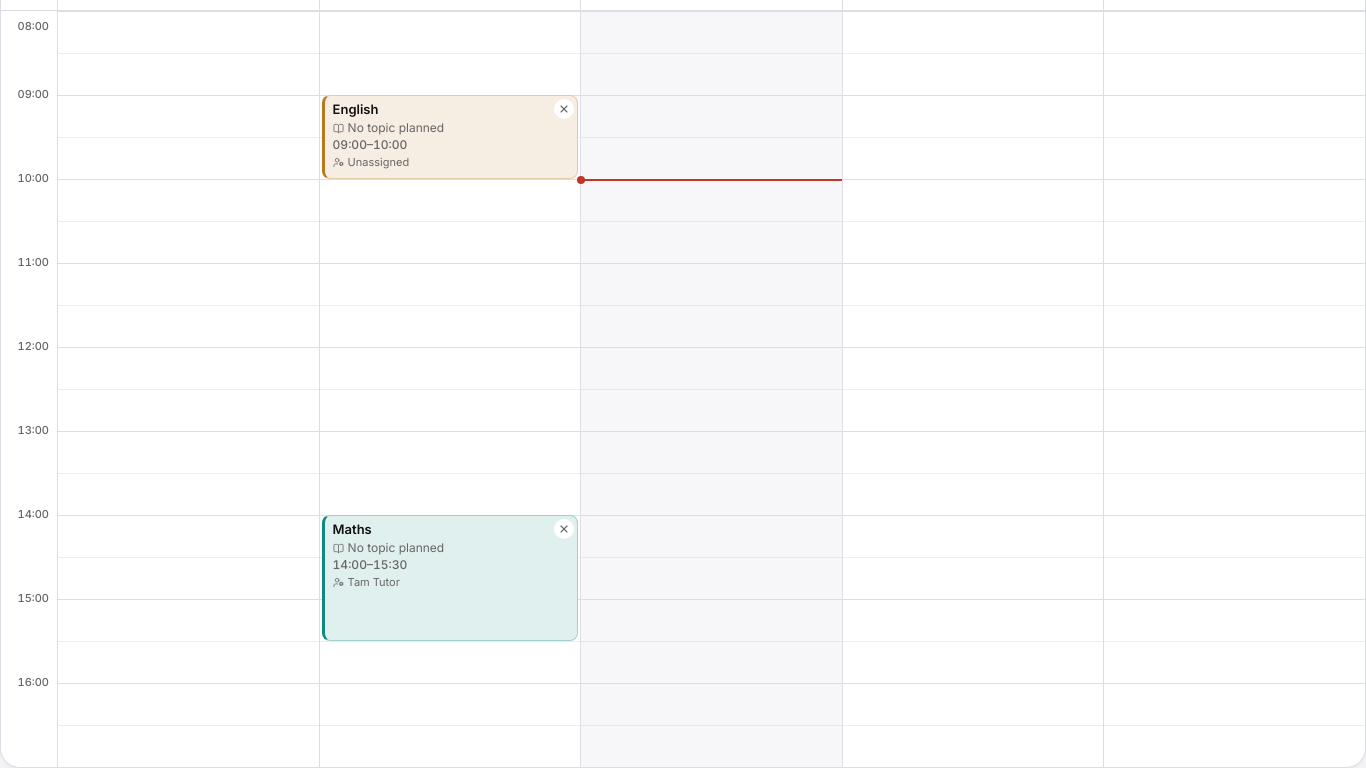
Test: TimetablePage changing and removing sessions › clicking a block opens it pre-filled, and saving sends the new slot
(page scrolled)
Click the button with aria-label "Edit Maths". click: {"x": 451, "y": 578}
box: x1=325 y1=516 x2=577 y2=640
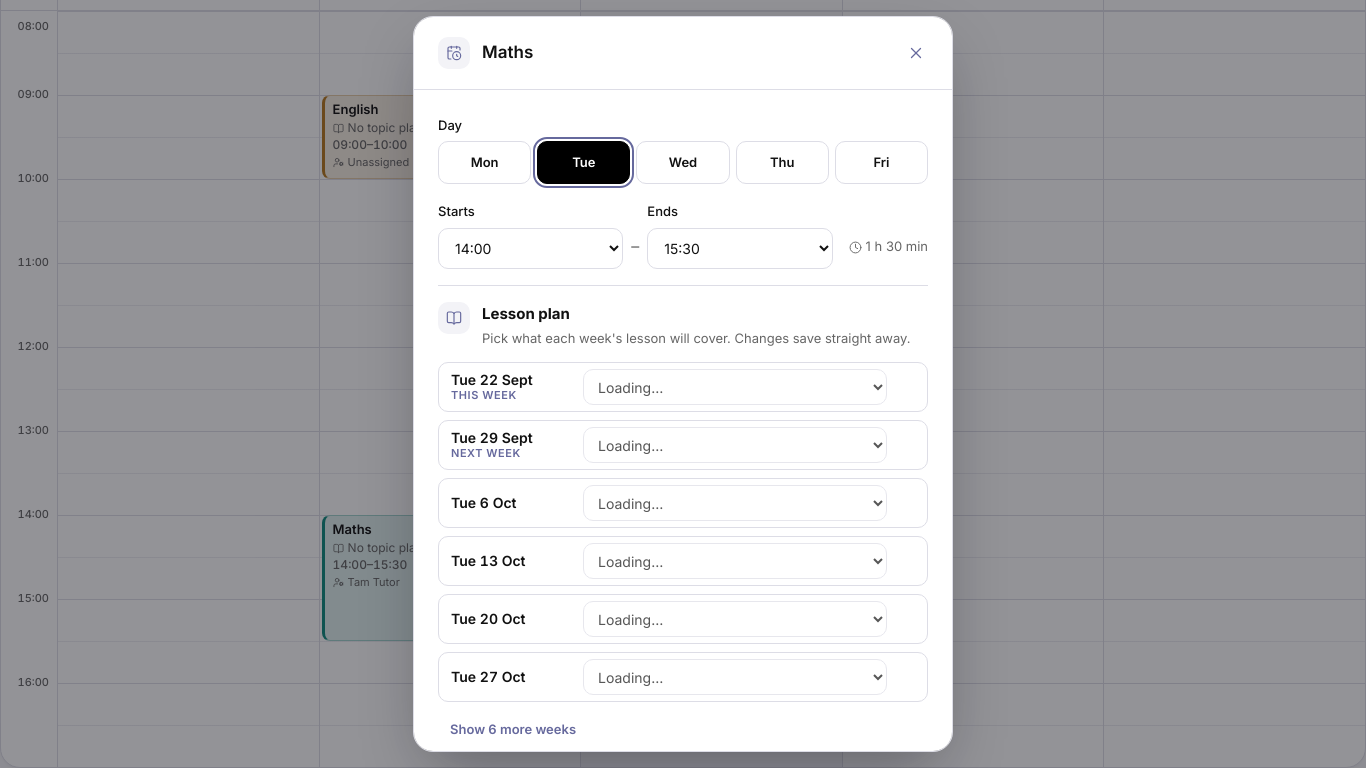
Expected: the radio button named "Tuesday" is checked, x1=537 y1=141 x2=630 y2=184
Expected: the dropdown labelled "Starts" shows "14:00", x1=438 y1=228 x2=623 y2=269
Expected: the dropdown labelled "Ends" shows "15:30", x1=647 y1=228 x2=833 y2=269
Click the radio button named "Thursday". click: {"x": 782, "y": 163}
box: x1=736 y1=141 x2=829 y2=184
(page scrolled)
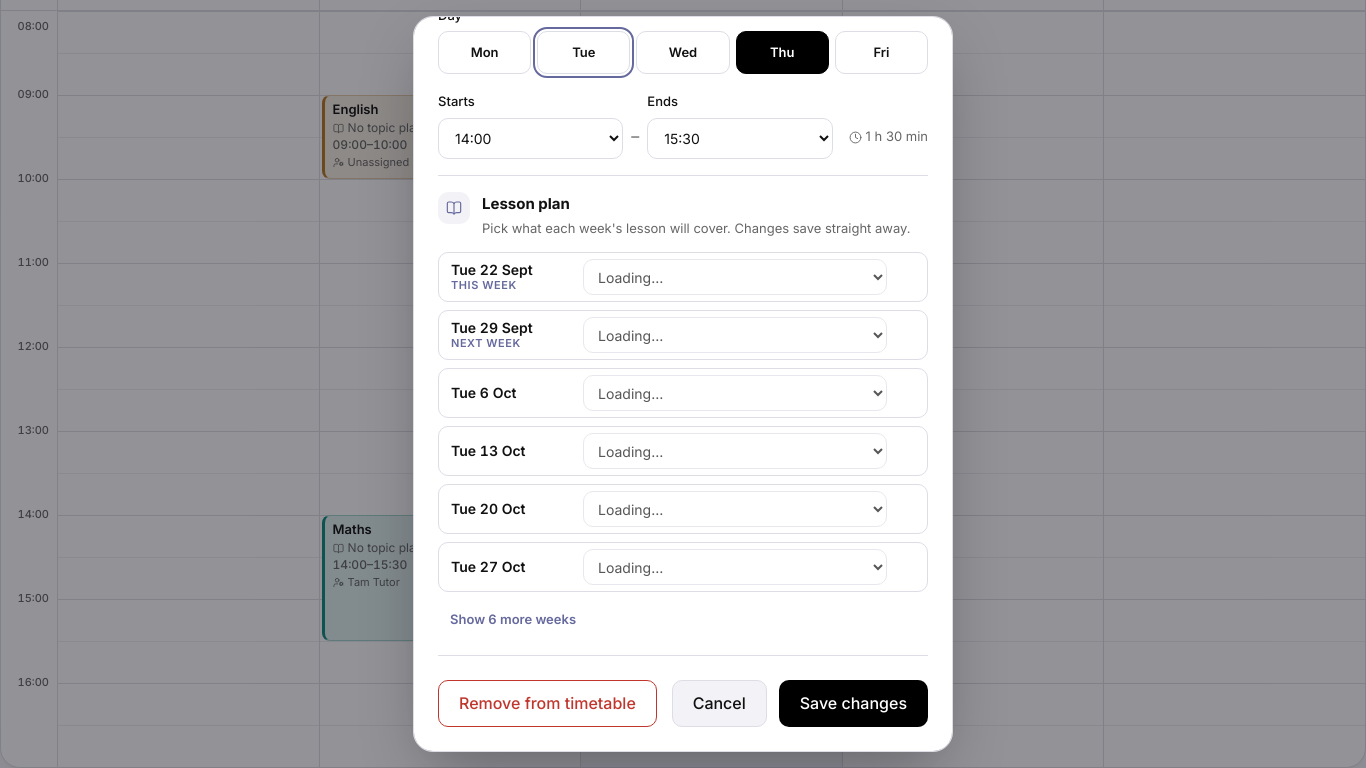
Click the button "Save changes". click: {"x": 853, "y": 704}
box: x1=779 y1=680 x2=928 y2=727
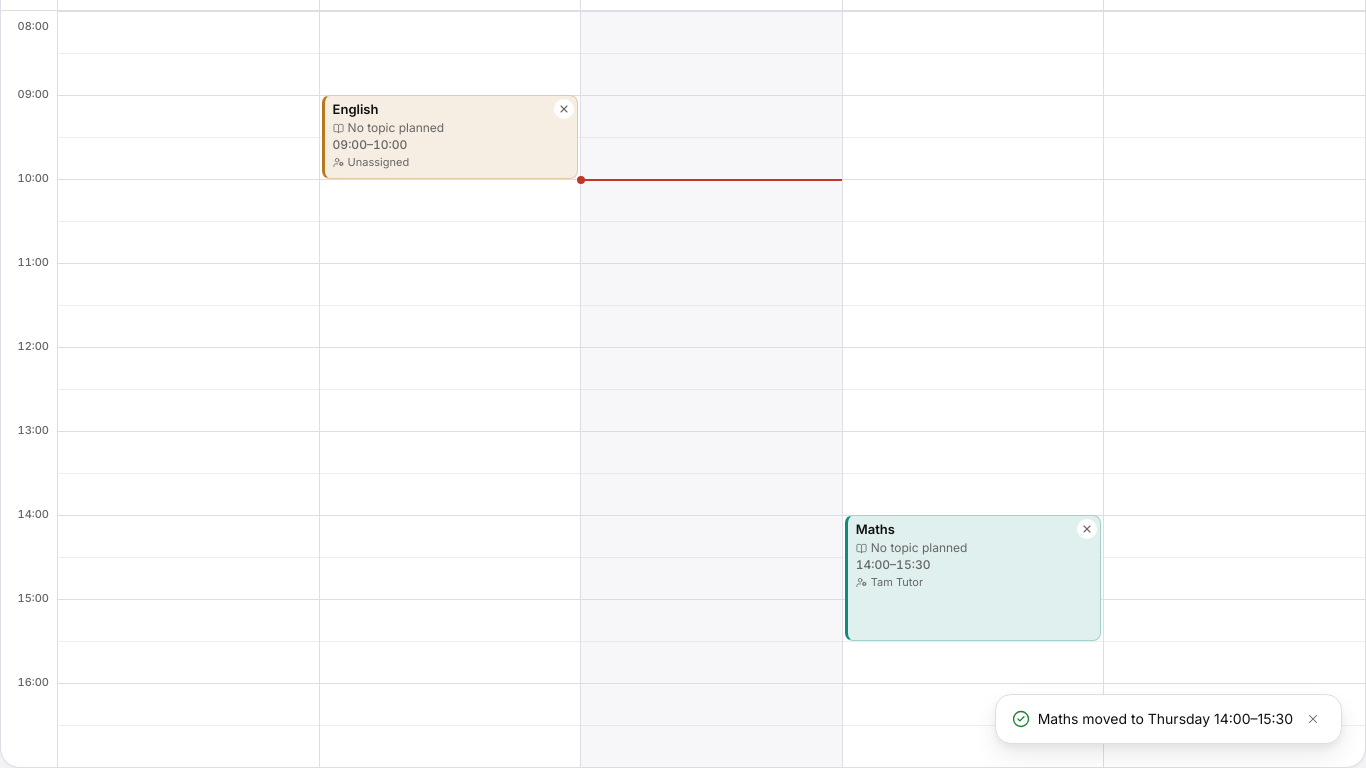
Expected: the text "Maths" is shown, x1=856 y1=521 x2=895 y2=537
Expected: the text "Maths moved to Thursday 14:00–15:30" is shown, x1=1038 y1=707 x2=1293 y2=731
